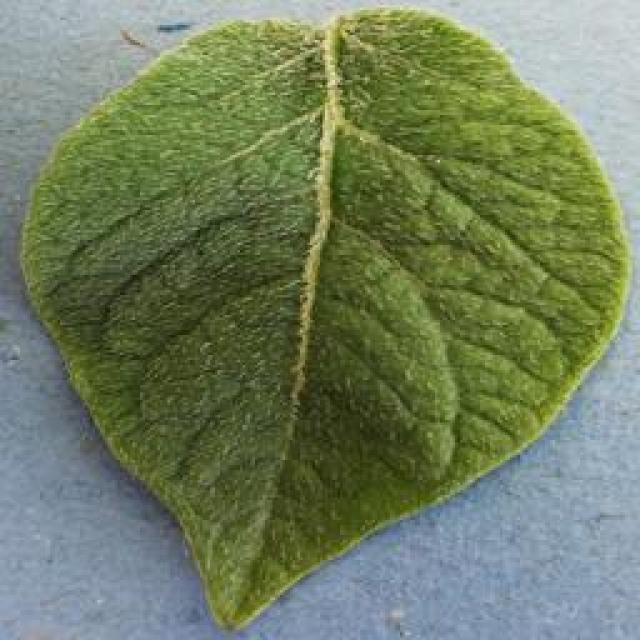Potato_Healthy: (21, 9, 622, 629)
